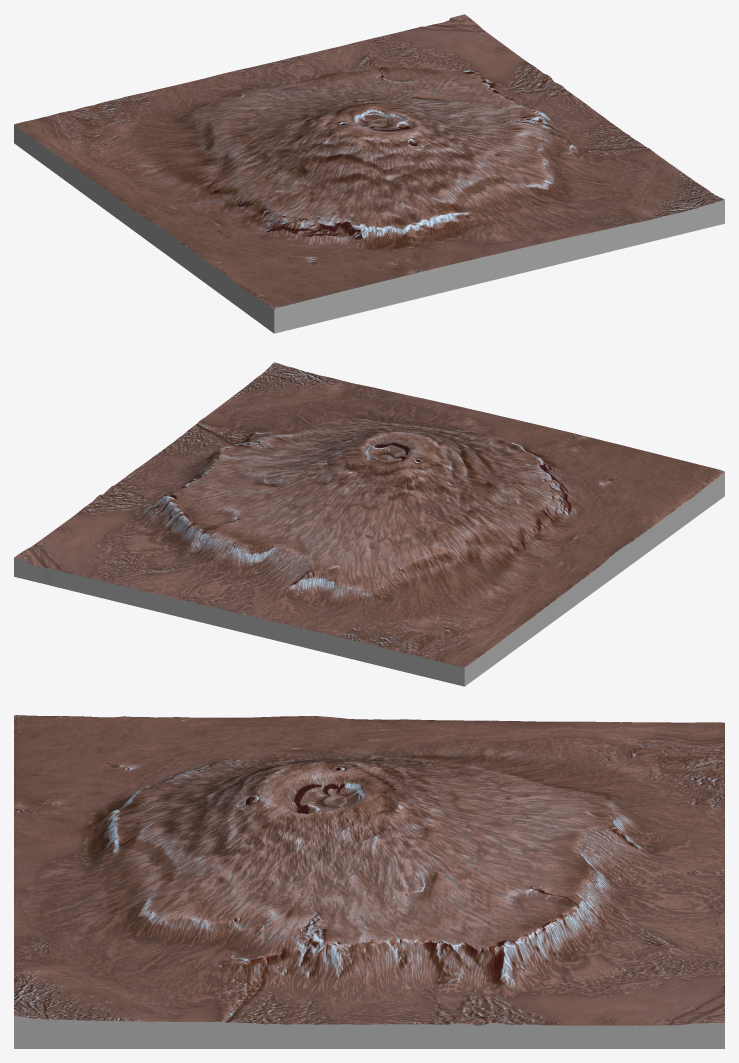
File: montania.fbx
3 renders of one model, top to bottom at view 1: azimuth 30°, elevation 25°; view 2: azimuth 150°, elevation 25°; view 3: azimuth 270°, elevation 25°, orthographic. The views are drawn at different scales.
Visible parts, largest first — view 1: OlympusMons_LP; view 2: OlympusMons_LP; view 3: OlympusMons_LP.
Part boxes in pixels (x1,y1,x2,y2): OlympusMons_LP: (14, 14, 724, 333); OlympusMons_LP: (14, 362, 724, 686); OlympusMons_LP: (14, 715, 724, 1048).
Bounding box in the file's own units: 190 × 31.44 × 190.
